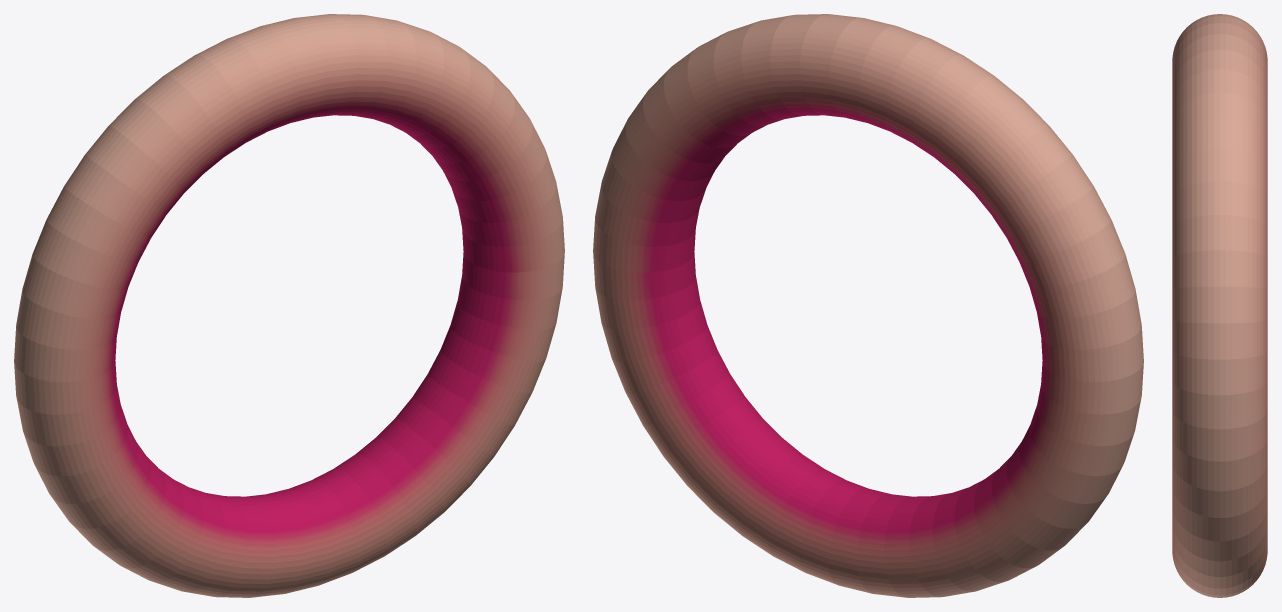
3 renders of one model, left to right at view 1: azimuth 30°, elevation 25°; view 2: azimuth 150°, elevation 25°; view 3: azimuth 270°, elevation 25°, orthographic. The views are drawn at different scales.
Visible parts, largest first — view 1: world; view 2: world; view 3: world.
Part boxes in pixels (x1=…): world: x1=14, y1=14, x2=564, y2=597; world: x1=593, y1=14, x2=1143, y2=597; world: x1=1172, y1=14, x2=1267, y2=597.
Bounding box in the file's own units: 35.07 × 35 × 5.72.
